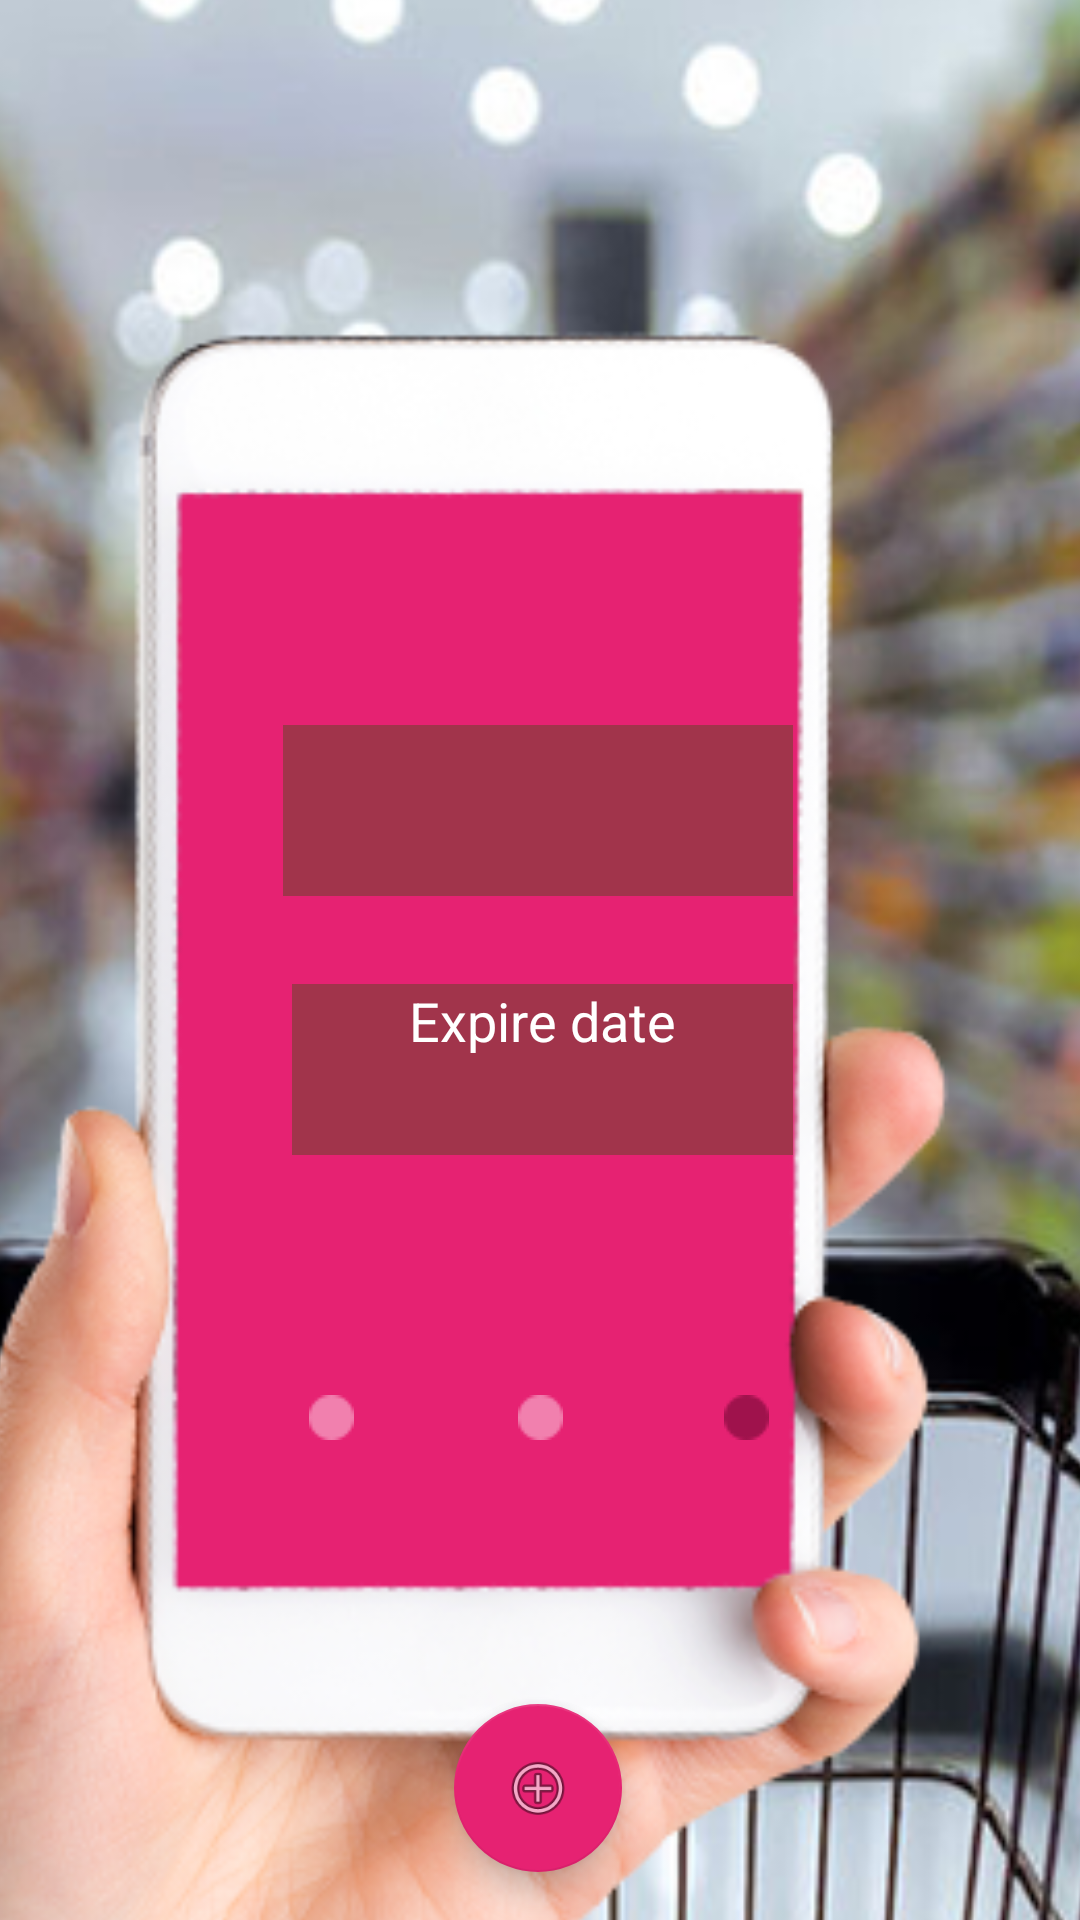

Where to tap for icons on this 1080px x 1920px app screen, as point (x, y):
add: point (538, 1788)
